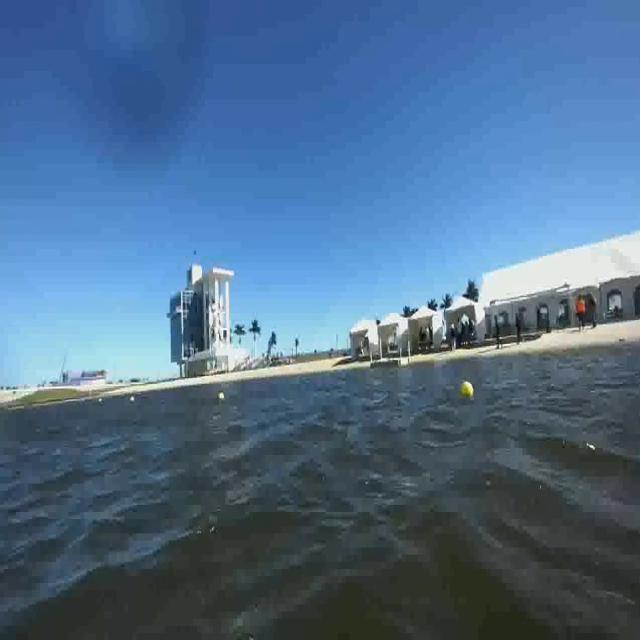yellow-buoy: (460, 381, 474, 399)
